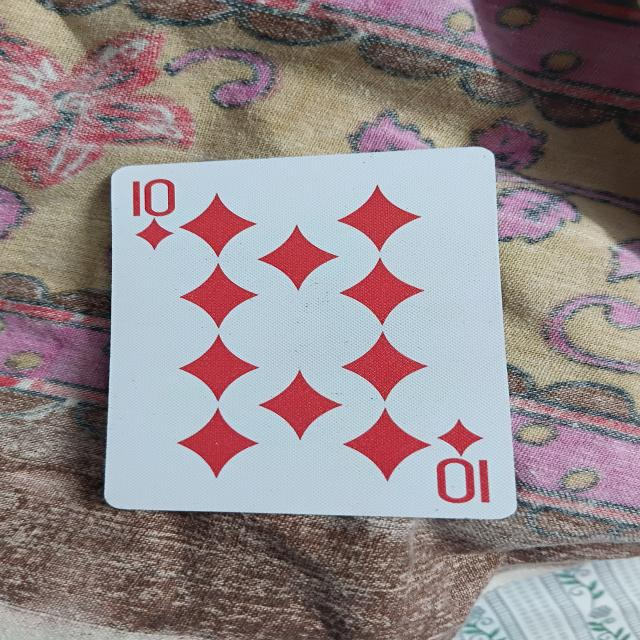10D: (106, 163, 521, 518)
